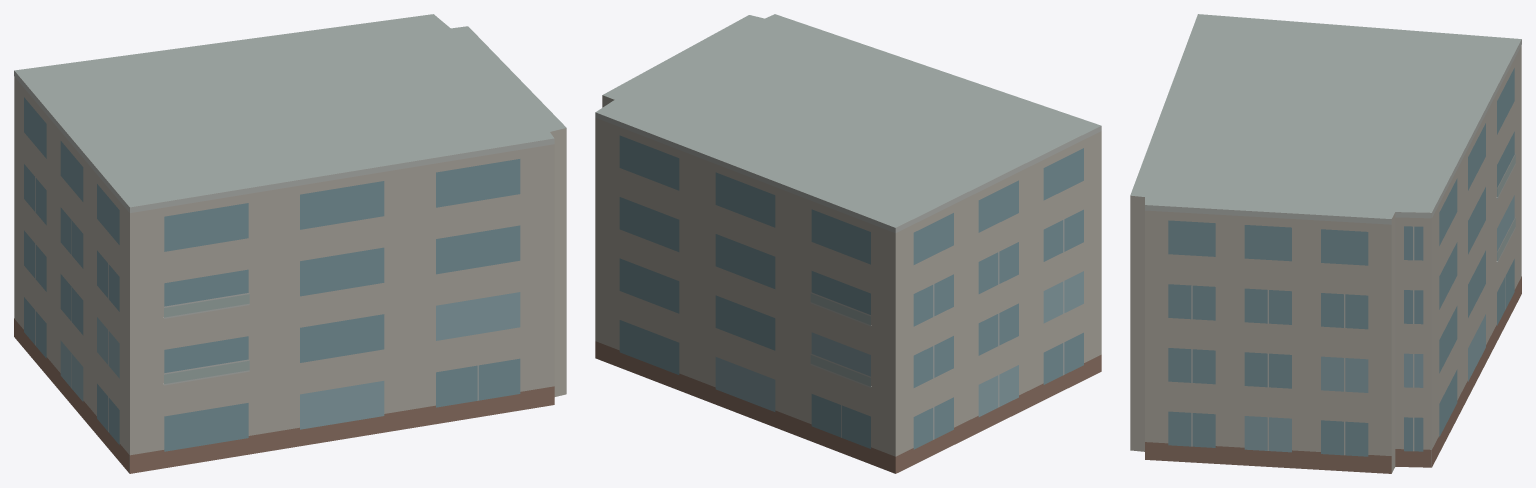
The model's file is survey-upis-32632279.glb.
3 views of the same model, side by side, from view 1: azimuth 30°, elevation 25°; view 2: azimuth 150°, elevation 25°; view 3: azimuth 270°, elevation 25° (orthographic). The views are drawn at different scales.
Visible parts, largest first — view 1: survey-upis-32632279.tmp; view 2: survey-upis-32632279.tmp; view 3: survey-upis-32632279.tmp.
Part boxes in pixels (left/top/right/bottom): survey-upis-32632279.tmp: left=14, top=14, right=566, bottom=473; survey-upis-32632279.tmp: left=595, top=14, right=1101, bottom=473; survey-upis-32632279.tmp: left=1130, top=14, right=1521, bottom=473.
Size of the model in its own units: 19.52 by 11.3 by 15.75.
